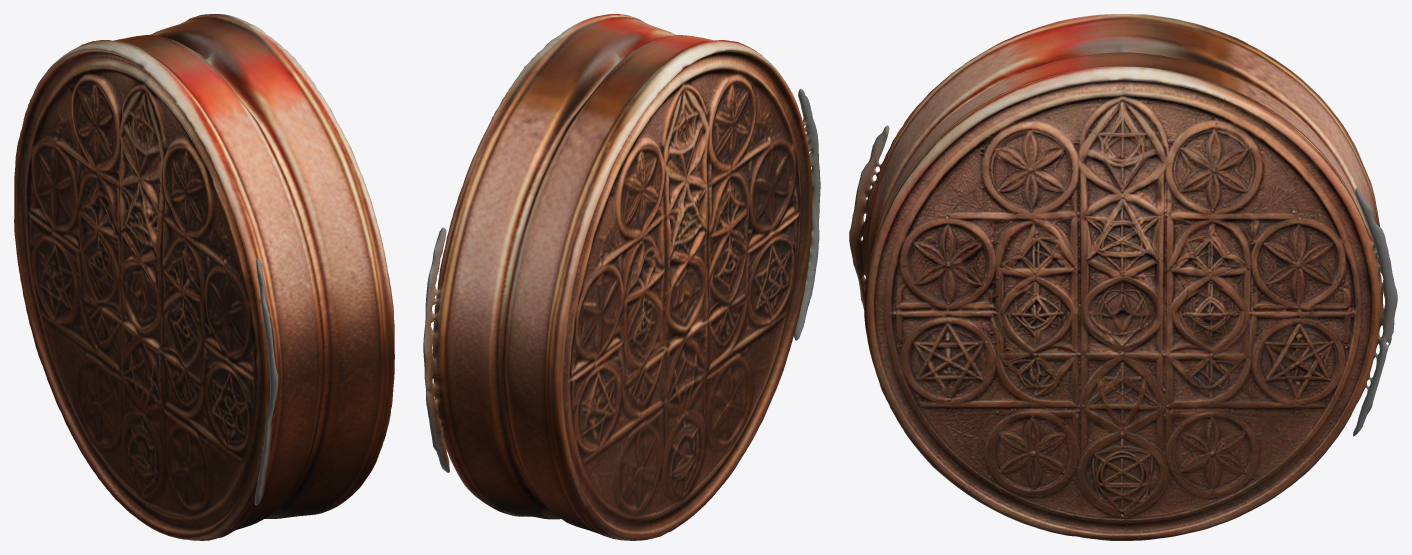
Rendered from metatrons_cube_3d.glb.
3 renders of one model, left to right at view 1: azimuth 30°, elevation 25°; view 2: azimuth 150°, elevation 25°; view 3: azimuth 270°, elevation 25°, orthographic.
Parts seen in each view (by area): view 1: tripo_node_df7575d3-05eb-47dd-9a96-3b1b49a8bd33; view 2: tripo_node_df7575d3-05eb-47dd-9a96-3b1b49a8bd33; view 3: tripo_node_df7575d3-05eb-47dd-9a96-3b1b49a8bd33.
Part boxes in pixels (box(x1,y1,x2,y2)): tripo_node_df7575d3-05eb-47dd-9a96-3b1b49a8bd33: box(14, 14, 394, 540); tripo_node_df7575d3-05eb-47dd-9a96-3b1b49a8bd33: box(423, 14, 820, 540); tripo_node_df7575d3-05eb-47dd-9a96-3b1b49a8bd33: box(849, 14, 1397, 540).
Size of the model in its own units: 0.2238 by 0.7361 by 0.7754.
1 material, 1 textured.
